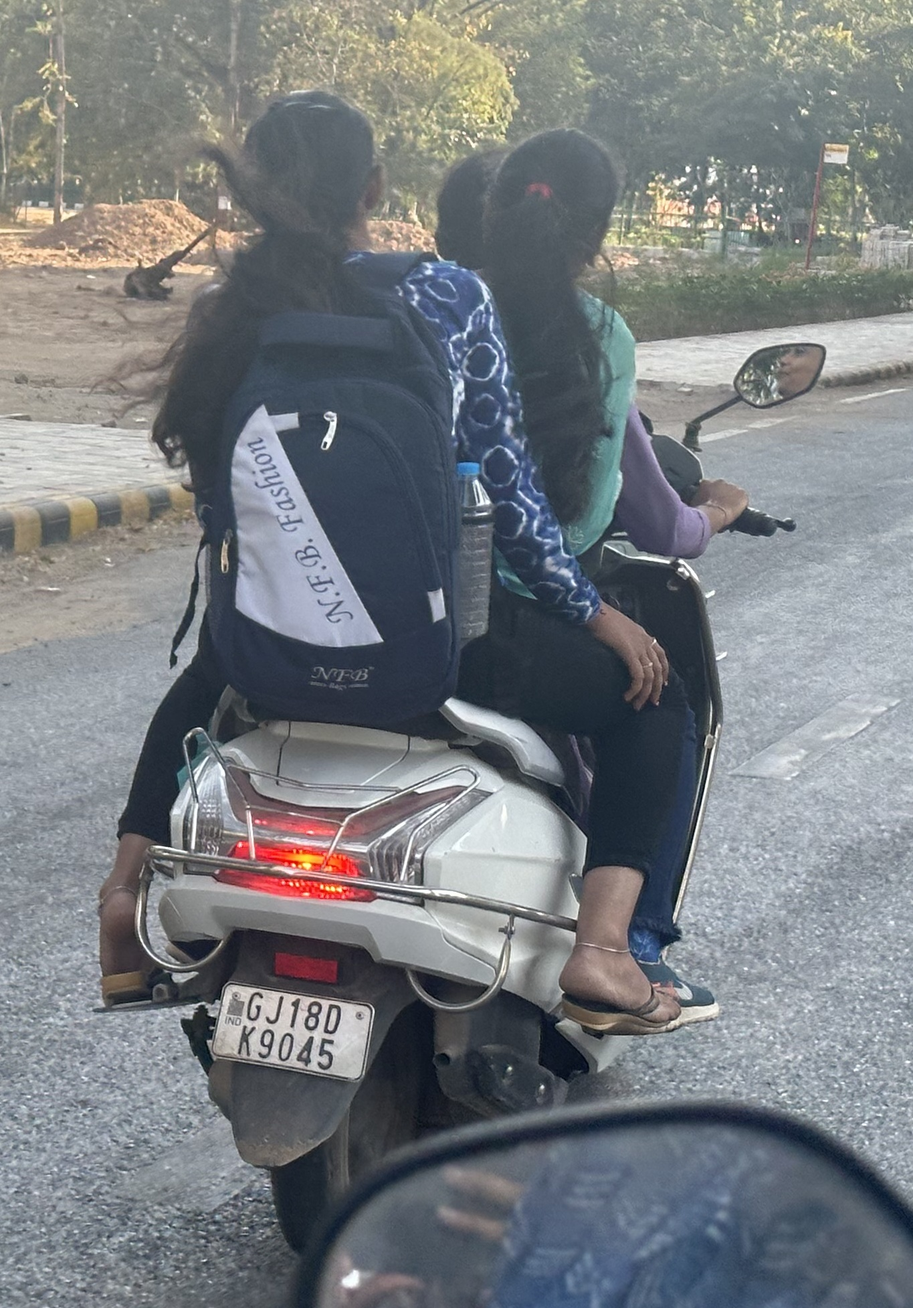BikeWithRider: (71, 67, 833, 1286)
NoHelmet: (219, 82, 400, 264), (467, 118, 633, 313), (417, 117, 565, 296)
